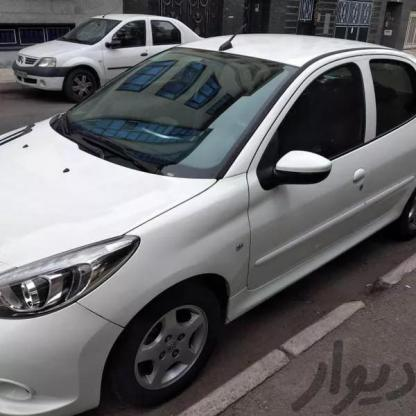Car: (0, 33, 416, 390), (8, 8, 218, 106)
